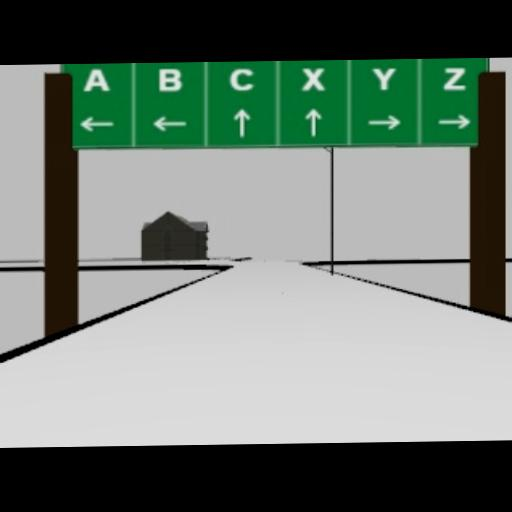A: (83, 66, 111, 91)
B: (158, 65, 182, 92)
C: (228, 66, 254, 91)
Left: (151, 113, 187, 132), (80, 115, 114, 132)
Right: (366, 112, 402, 131), (437, 112, 471, 131)
Straight: (233, 106, 251, 137), (304, 106, 322, 137)
X: (300, 65, 326, 94)
Y: (373, 65, 395, 89)
Z: (444, 64, 466, 91)
